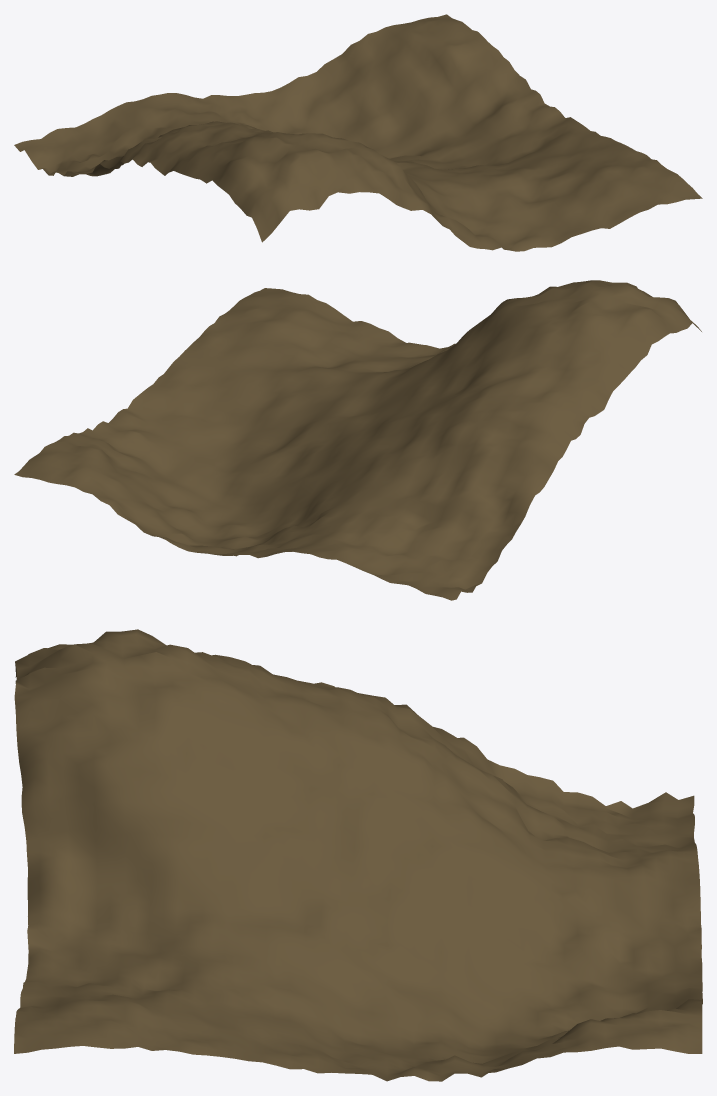
3 views of the same model, one above another, from view 1: azimuth 30°, elevation 25°; view 2: azimuth 150°, elevation 25°; view 3: azimuth 270°, elevation 25° (orthographic). The views are drawn at different scales.
Visible parts, largest first — view 1: pPlane2; view 2: pPlane2; view 3: pPlane2.
Part boxes in pixels (x1,y1,x2,y2): pPlane2: (14,14,702,251); pPlane2: (14,280,701,600); pPlane2: (14,629,702,1081).
Size of the model in its own units: 292 by 110 by 292.
